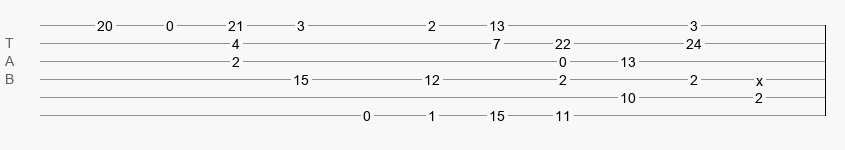0: (166, 18, 174, 28), (363, 108, 371, 118), (559, 54, 567, 64)
1: (428, 108, 436, 118)
10: (620, 90, 636, 100)
11: (555, 108, 571, 118)
12: (424, 72, 440, 82)
13: (489, 18, 505, 28), (620, 54, 636, 64)
15: (293, 72, 309, 82), (489, 108, 505, 118)
2: (232, 54, 240, 64), (428, 18, 436, 28), (559, 72, 567, 82), (690, 72, 698, 82), (755, 90, 763, 100)
20: (97, 18, 113, 28)
21: (228, 18, 244, 28)
22: (555, 36, 571, 46)
24: (686, 36, 702, 46)
3: (297, 18, 305, 28), (690, 18, 698, 28)
4: (232, 36, 240, 46)
7: (493, 36, 501, 46)
x: (756, 73, 763, 81)
